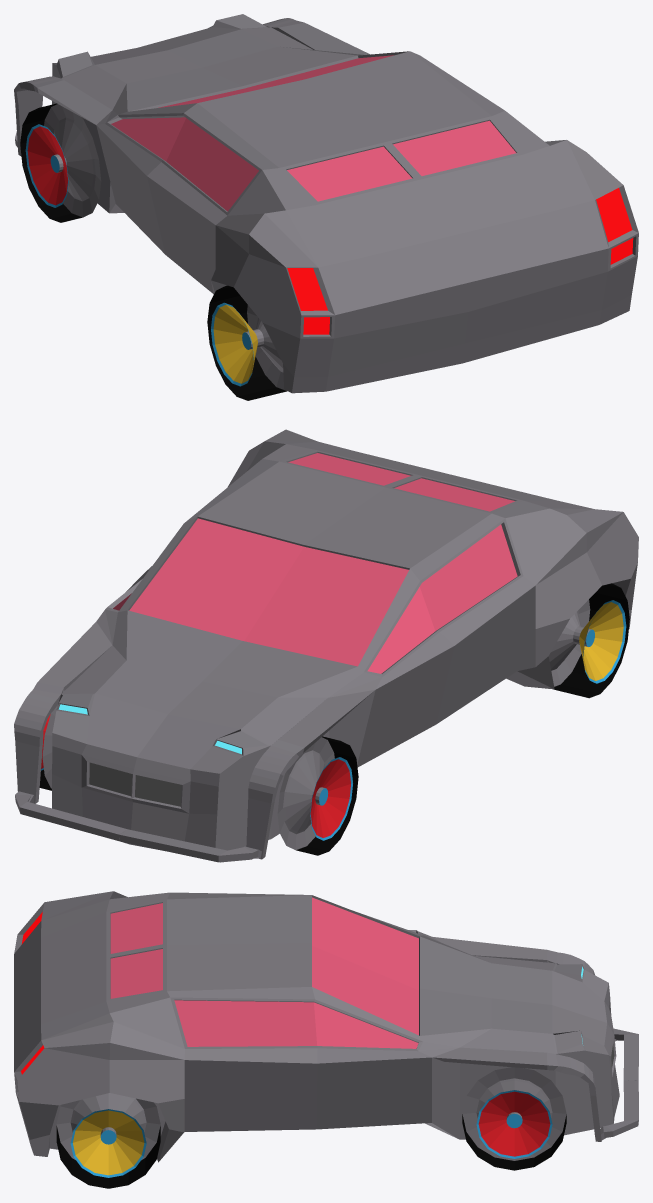
Rendered from cybercar.glb.
The picture shows the model from 3 angles, top to bottom: view 1: azimuth 30°, elevation 25°; view 2: azimuth 150°, elevation 25°; view 3: azimuth 270°, elevation 25°; orthographic projection. The views are drawn at different scales.
Visible parts, largest first — view 1: Car; view 2: Car; view 3: Car.
Part boxes in pixels (x1,y1,x2,y2): Car: (14,14,638,400); Car: (14,429,638,862); Car: (14,891,638,1188).
Size of the model in its own units: 3.66 by 1.79 by 6.
